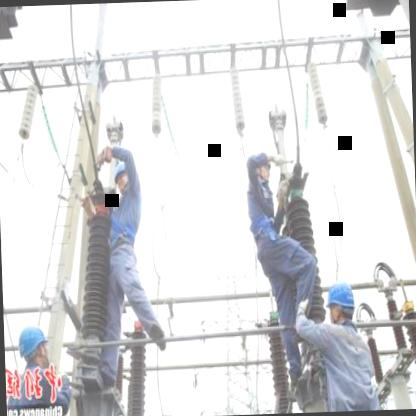helmet: (324, 278, 360, 328), (16, 321, 50, 370), (112, 158, 134, 194)
